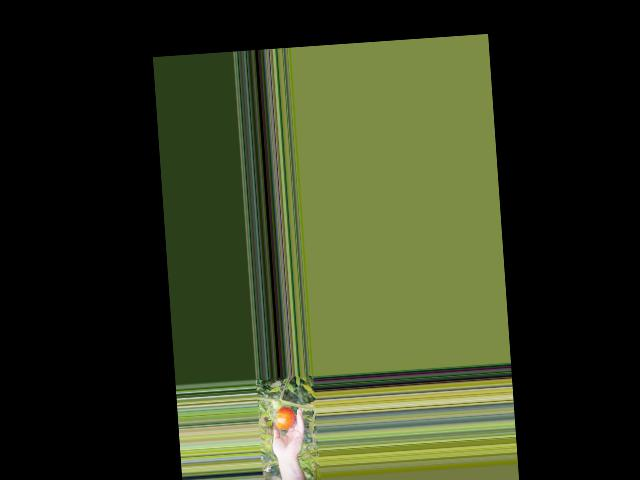tomato: (274, 405, 295, 430)
